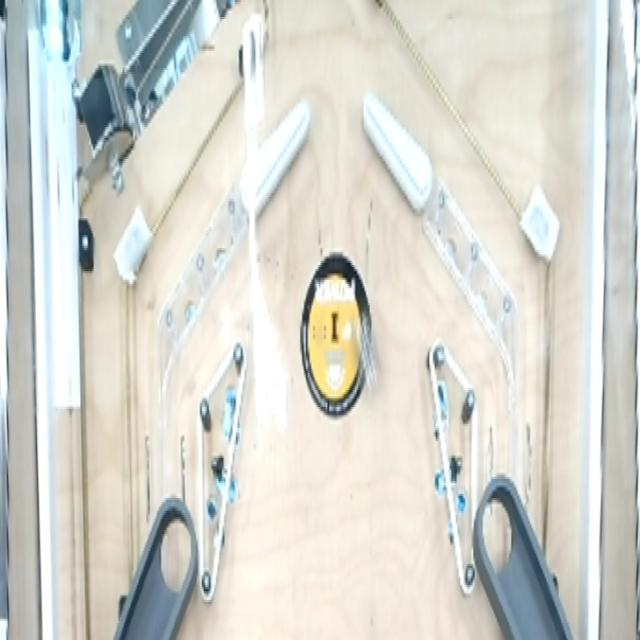ball: (354, 318, 384, 401)
flipper-left: (361, 90, 436, 233)
flipper-right: (244, 92, 315, 235)
